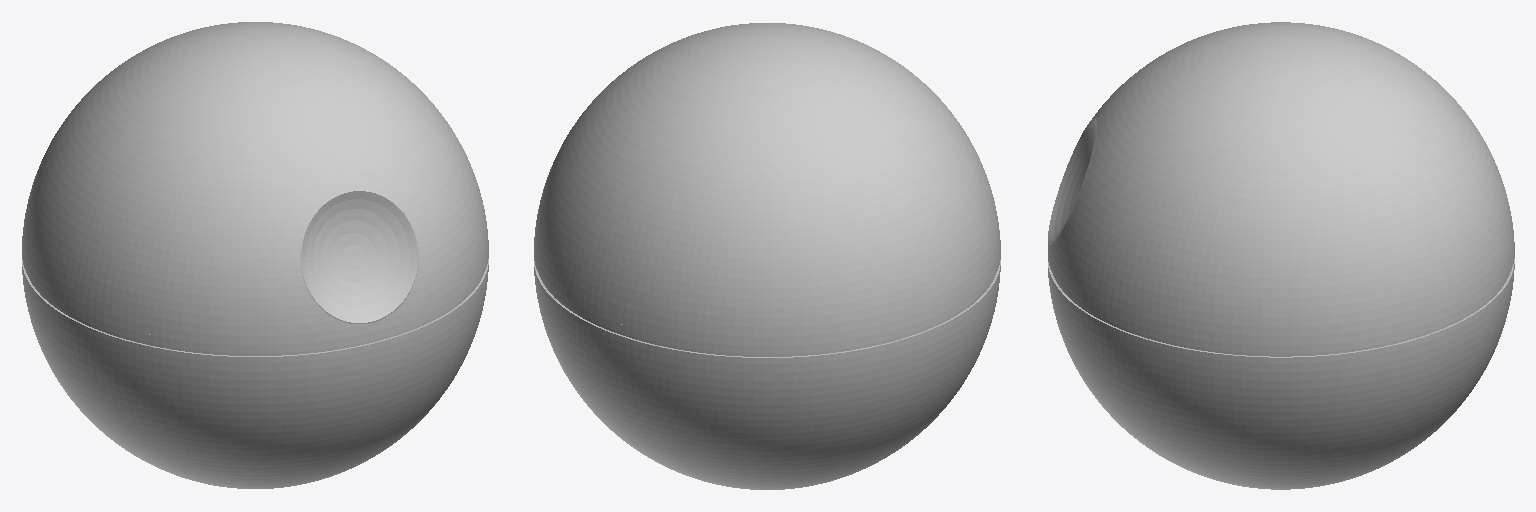
Rendered from death-star.obj.
3 views of the same model, side by side, from view 1: azimuth 30°, elevation 25°; view 2: azimuth 150°, elevation 25°; view 3: azimuth 270°, elevation 25° (orthographic).
Parts seen in each view (by area): view 1: DeathStar001, DeathStar_misa001; view 2: DeathStar001; view 3: DeathStar001, DeathStar_misa001.
Part boxes in pixels (x1,y1,x2,y2): DeathStar001: (22,22,488,488); DeathStar_misa001: (300,189,418,323); DeathStar001: (534,23,1000,489); DeathStar001: (1048,22,1514,489); DeathStar_misa001: (1048,118,1097,244).
Bounding box in the file's own units: 99.97 × 100 × 100.